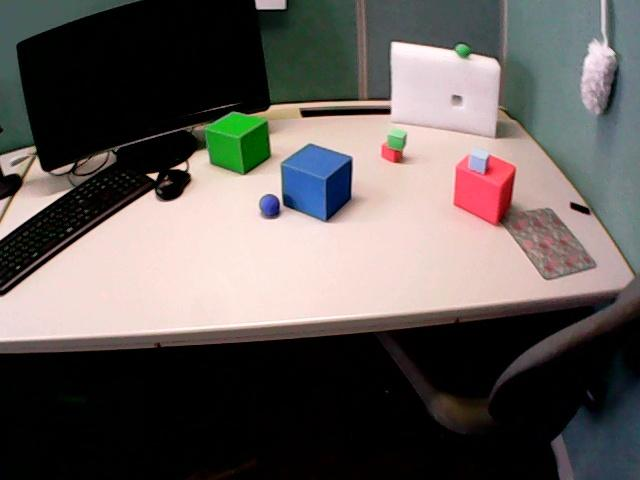blue_block: (281, 144, 352, 220), (468, 148, 489, 173)
red_block: (454, 156, 515, 224), (381, 142, 401, 162)
